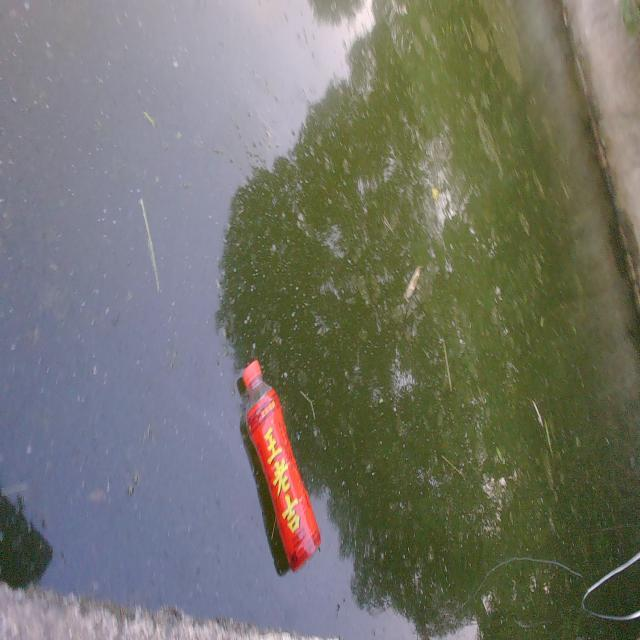garbage: (241, 358, 321, 572)
